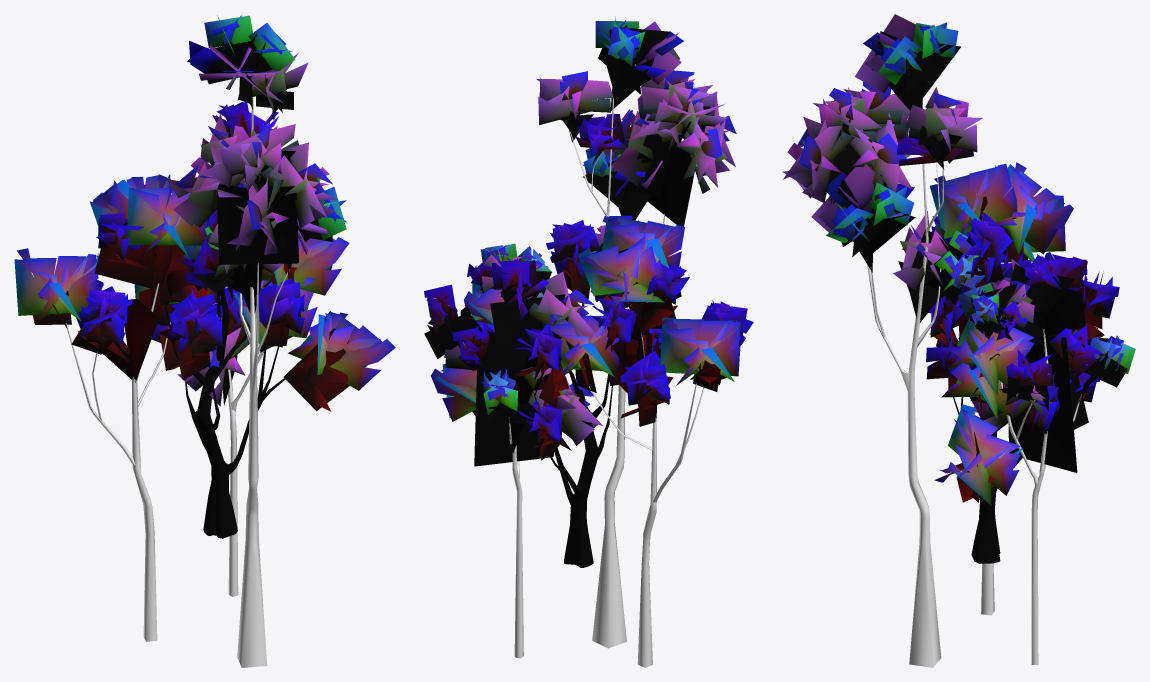
The model's file is forest_interior_group_1.dae.
3 renders of one model, left to right at view 1: azimuth 30°, elevation 25°; view 2: azimuth 150°, elevation 25°; view 3: azimuth 270°, elevation 25°, orthographic. The views are drawn at different scales.
Visible parts, largest first — view 1: forest_interior_group_1_a1100; view 2: forest_interior_group_1_a1100; view 3: forest_interior_group_1_a1100.
Part boxes in pixels (box(x1,y1,x2,y2)): forest_interior_group_1_a1100: box(14, 15, 395, 667); forest_interior_group_1_a1100: box(424, 16, 753, 667); forest_interior_group_1_a1100: box(782, 14, 1135, 667).
Size of the model in its own units: 9.73 by 9.07 by 17.79.
